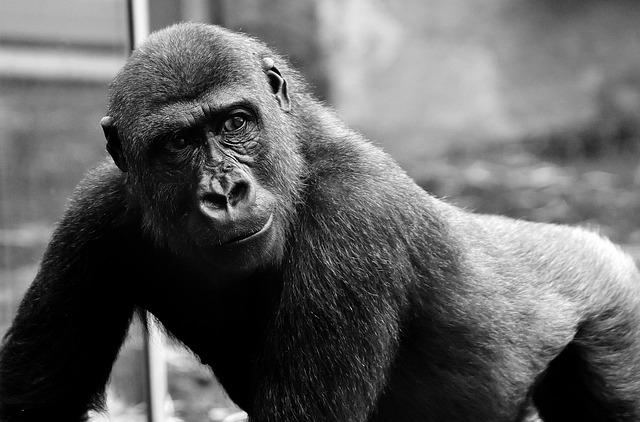gorille_Autres: (33, 25, 640, 422)
